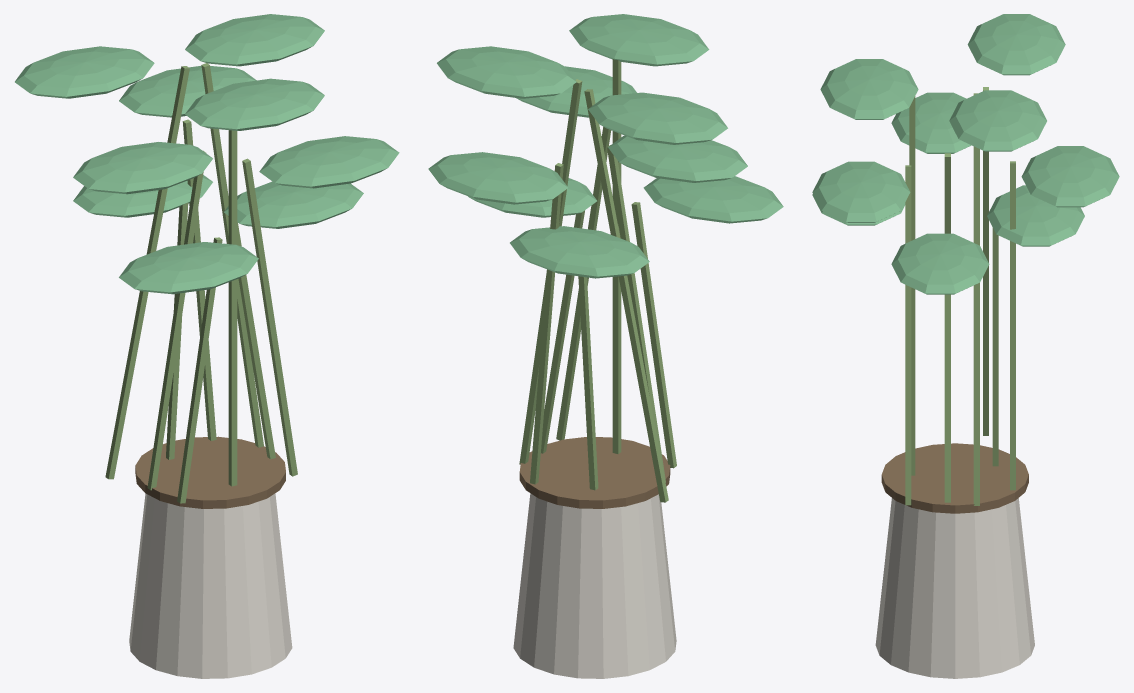
File: maceta_grande.glb
3 views of the same model, side by side, from view 1: azimuth 30°, elevation 25°; view 2: azimuth 150°, elevation 25°; view 3: azimuth 270°, elevation 25° (orthographic). The views are drawn at different scales.
Parts seen in each view (by area): view 1: maceta_grande; view 2: maceta_grande; view 3: maceta_grande.
Boxes of the visible parts, box(x1,y1,x2,y2) form: maceta_grande: box(15, 14, 399, 678); maceta_grande: box(428, 14, 783, 678); maceta_grande: box(812, 14, 1119, 678).
Size of the model in its own units: 1.08 by 2.04 by 1.
